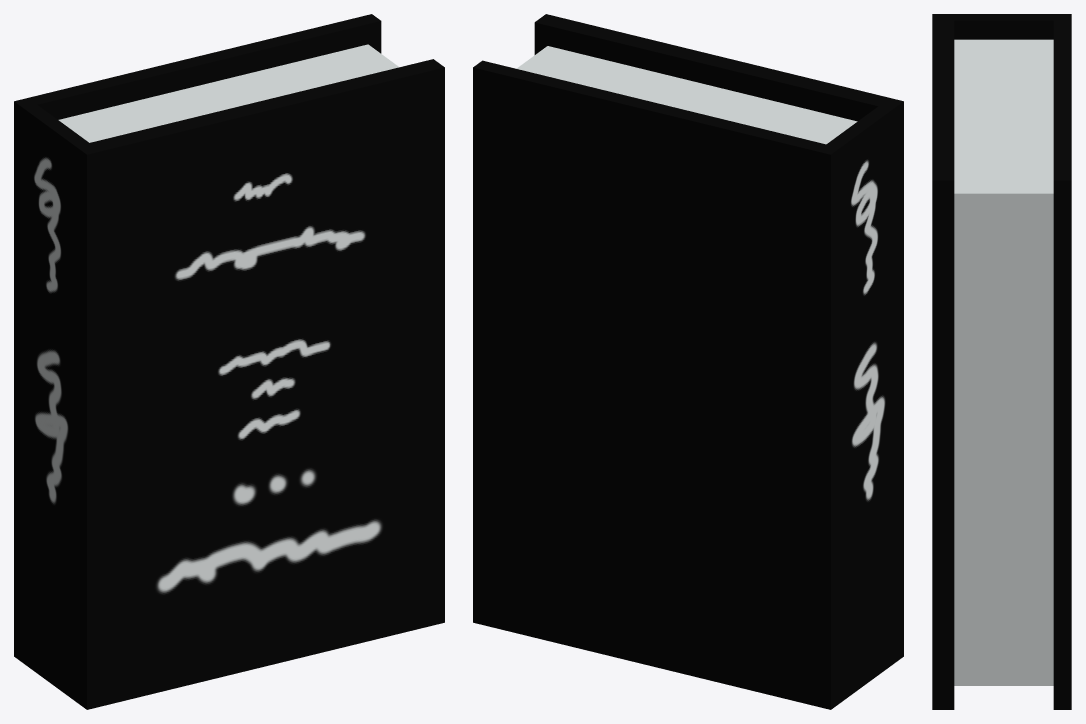
The model's file is thesis.fbx.
3 views of the same model, side by side, from view 1: azimuth 30°, elevation 25°; view 2: azimuth 150°, elevation 25°; view 3: azimuth 270°, elevation 25° (orthographic). The views are drawn at different scales.
Parts seen in each view (by area): view 1: Cube.002, Cube; view 2: Cube.002, Cube; view 3: Cube, Cube.002.
Part boxes in pixels (x1,y1,x2,y2): Cube.002: (14, 14, 444, 709); Cube: (58, 44, 398, 142); Cube.002: (473, 14, 903, 709); Cube: (516, 46, 857, 144); Cube: (954, 39, 1053, 685); Cube.002: (932, 14, 1071, 709).
Bounding box in the file's own units: 50.55 × 74.92 × 17.87.
2 materials, 1 textured.
